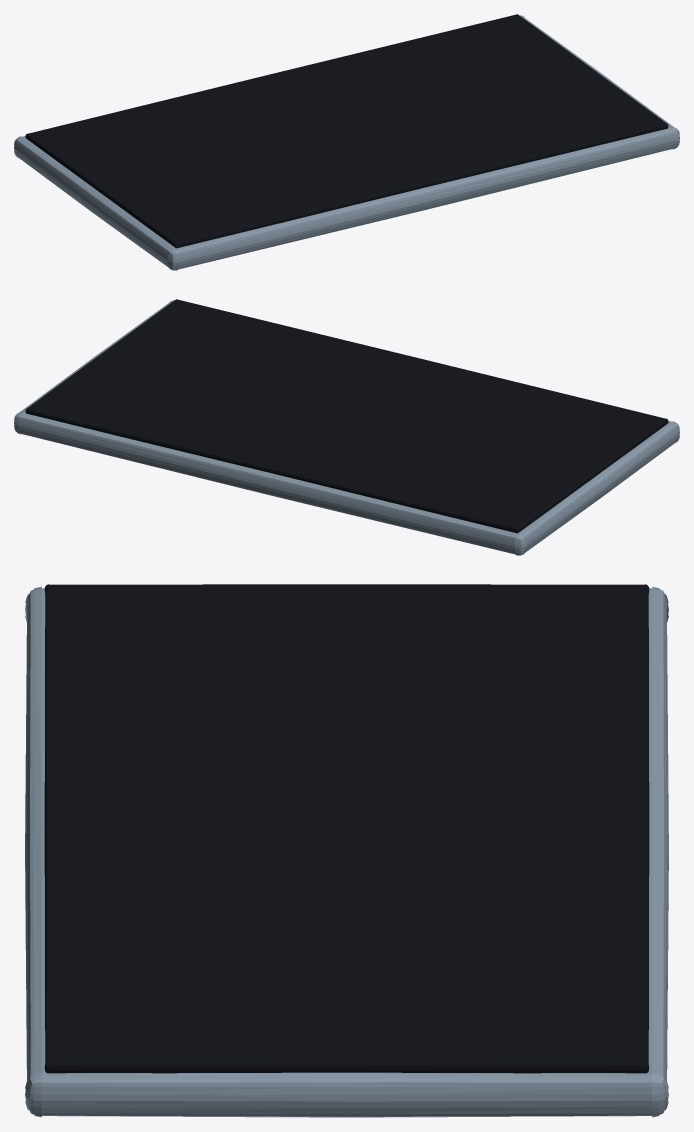
The model's file is 20_PS_Table_PremiumChassis.fbx.
The picture shows the model from 3 angles, top to bottom: view 1: azimuth 30°, elevation 25°; view 2: azimuth 150°, elevation 25°; view 3: azimuth 270°, elevation 25°; orthographic projection. The views are drawn at different scales.
Parts seen in each view (by area): view 1: PS_Table_PremiumChassis; view 2: PS_Table_PremiumChassis; view 3: PS_Table_PremiumChassis.
Part boxes in pixels (<box>): PS_Table_PremiumChassis: <box>14,14,679,270</box>; PS_Table_PremiumChassis: <box>14,299,679,555</box>; PS_Table_PremiumChassis: <box>25,584,668,1117</box>.
Size of the model in its own units: 990 by 46.5 by 540.
